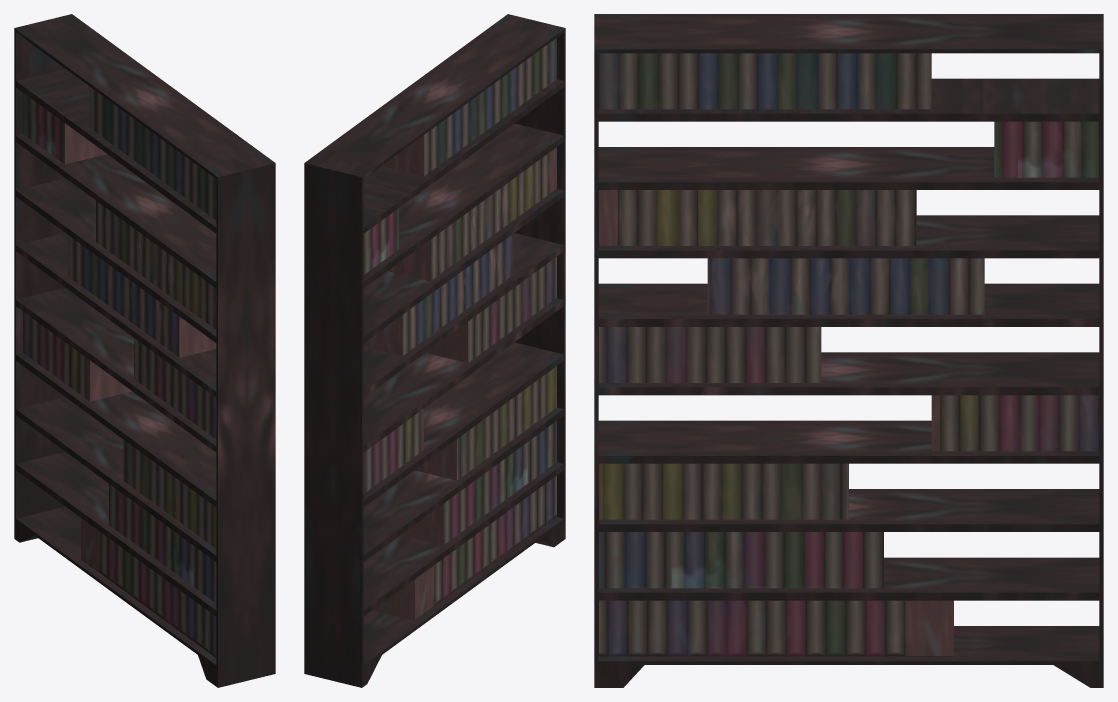
The model's file is biblio_skaf.fbx.
3 renders of one model, left to right at view 1: azimuth 30°, elevation 25°; view 2: azimuth 150°, elevation 25°; view 3: azimuth 270°, elevation 25°, orthographic. The views are drawn at different scales.
Parts seen in each view (by area): view 1: biblio_skaf; view 2: biblio_skaf; view 3: biblio_skaf.
Part boxes in pixels (x1,y1,x2,y2): biblio_skaf: (14, 14, 275, 687); biblio_skaf: (304, 14, 565, 687); biblio_skaf: (594, 14, 1103, 687).
Size of the model in its own units: 19.34 by 163 by 118.
1 material, 1 textured.
